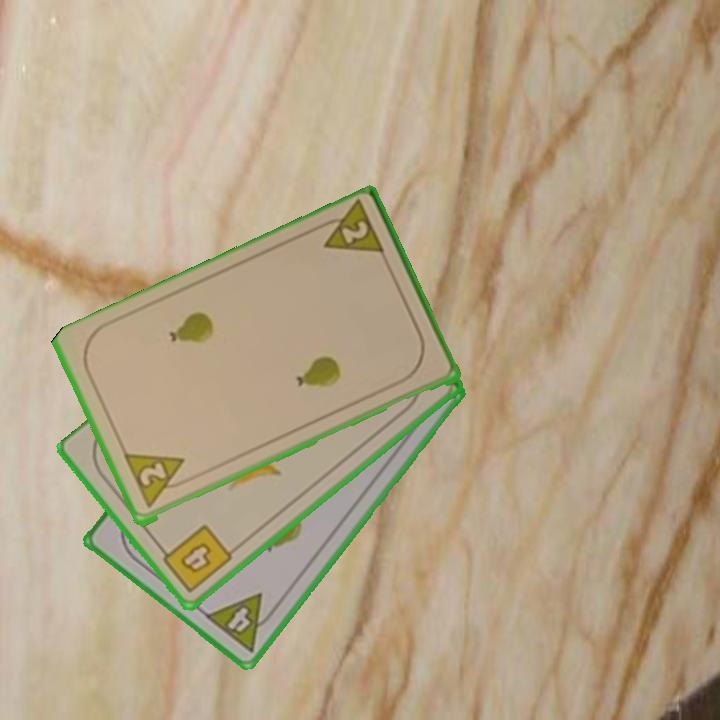2p: (312, 199, 388, 261), (121, 450, 194, 512)
4b: (155, 521, 236, 596)
4p: (201, 589, 282, 656)
